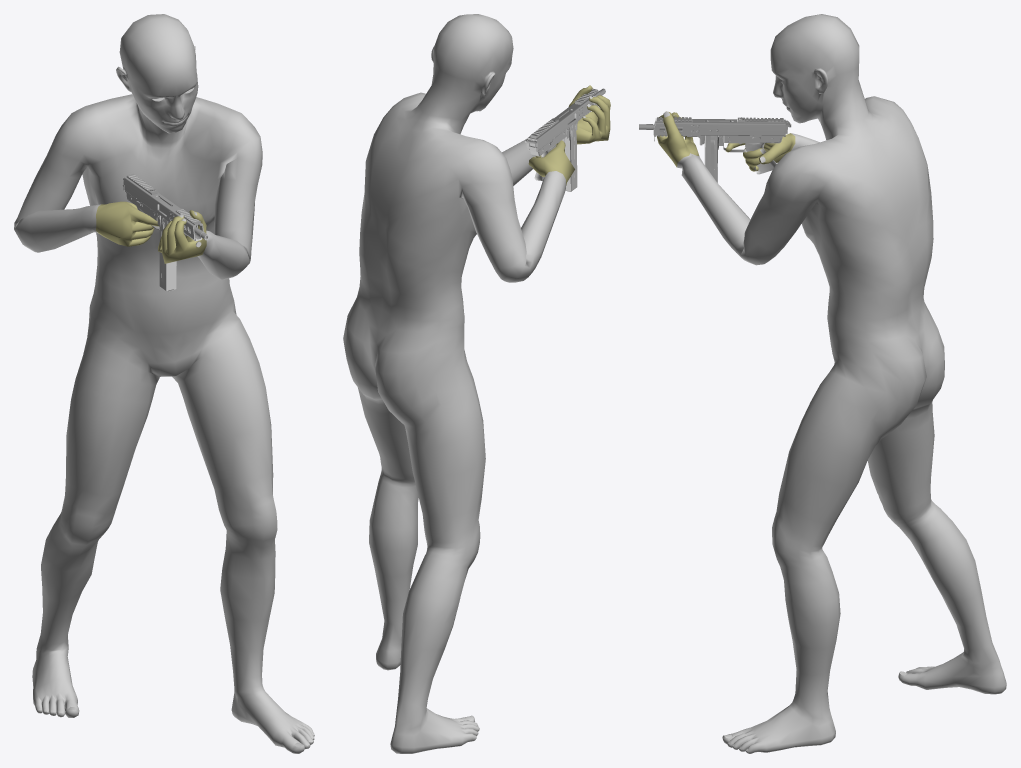
File: smg.glb
The picture shows the model from 3 angles, left to right: view 1: azimuth 30°, elevation 25°; view 2: azimuth 150°, elevation 25°; view 3: azimuth 270°, elevation 25°; orthographic projection. The views are drawn at different scales.
Parts seen in each view (by area): view 1: man001; view 2: man001; view 3: man001.
Part boxes in pixels (<box>): man001: <box>14,14,314,753</box>; man001: <box>343,14,610,753</box>; man001: <box>639,14,1006,753</box>.
Size of the model in its own units: 0.5588 by 1.74 by 0.8459.
